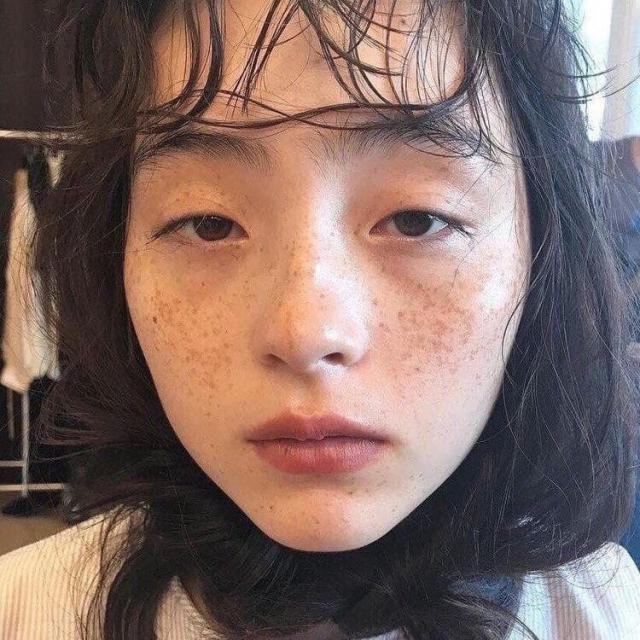freckle: (131, 242, 527, 403)
